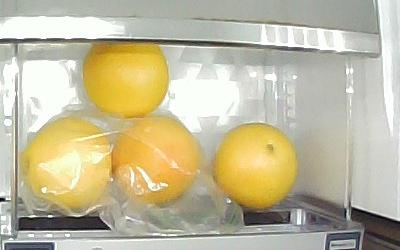grapefruit: (214, 122, 298, 208), (82, 43, 169, 117)
grapefruit_vinyl: (21, 116, 111, 211), (114, 117, 202, 209)
